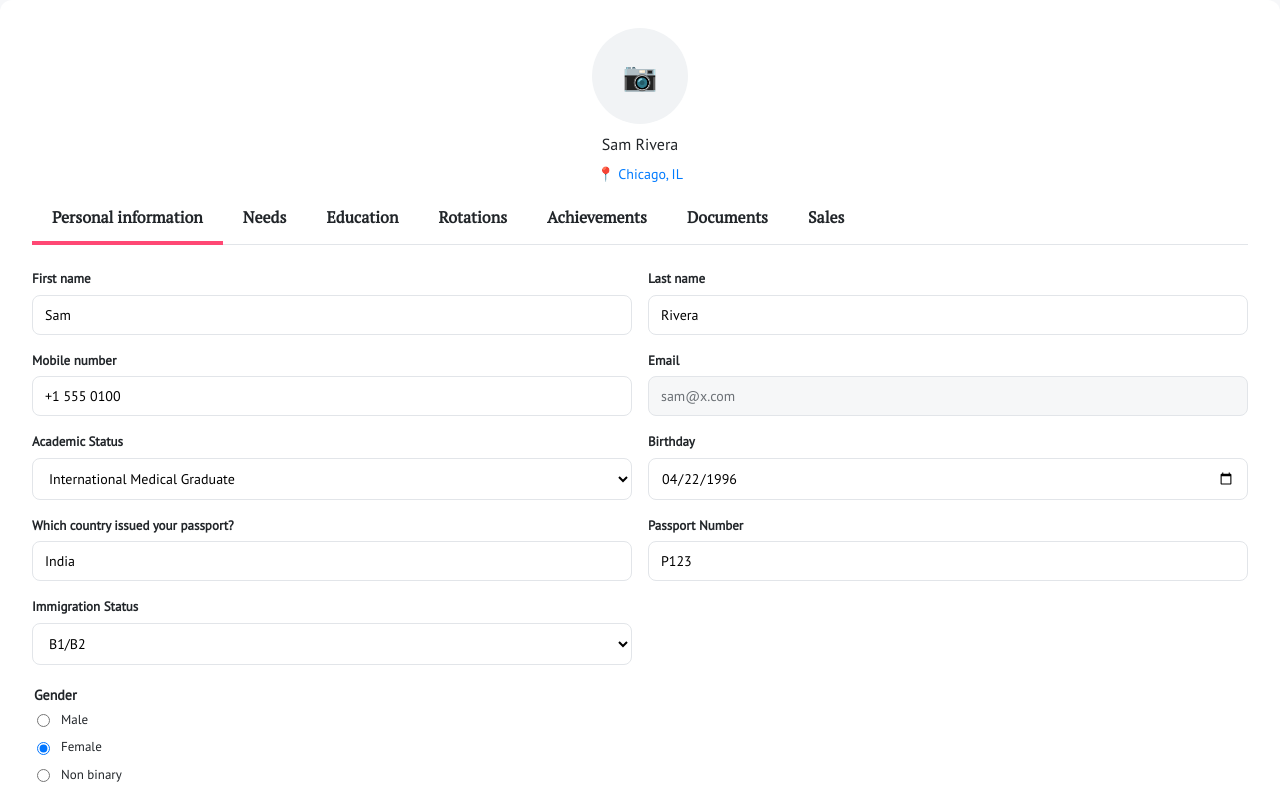
Test: StudentProfilePage › renders the Education tab for the student's academic track
The width and height of the screenshot is (1280, 800).
Click the tab "Education" at (362, 217), box [326,206,398,228]
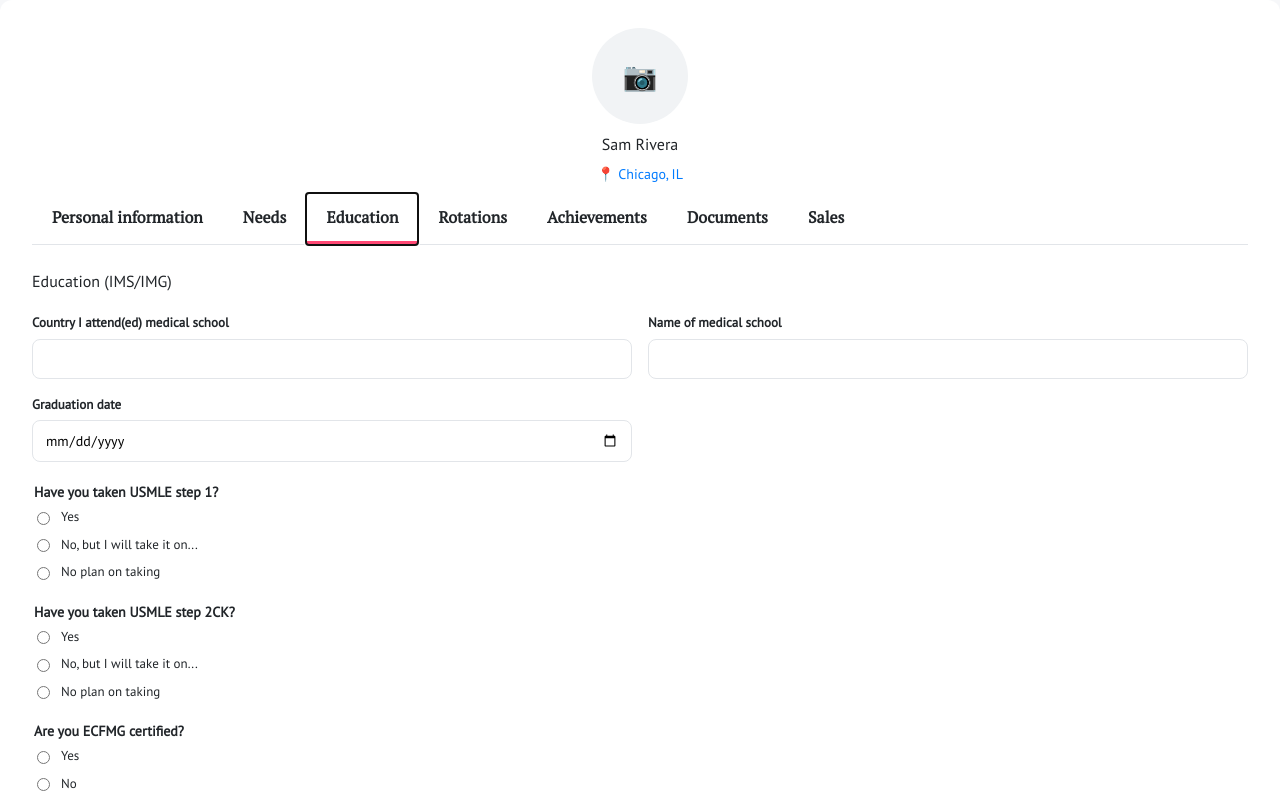
Check: the text "Education (IMS/IMG)" is shown, box [32,271,172,291]
